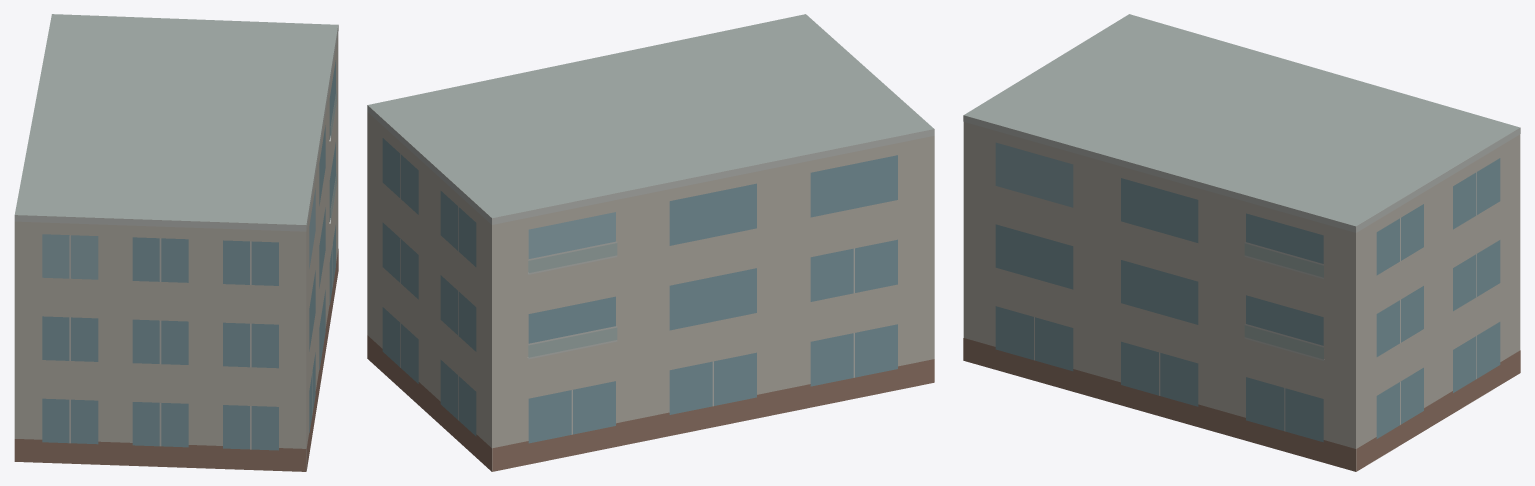
Rendered from survey-upis-32704758.glb.
3 renders of one model, left to right at view 1: azimuth 30°, elevation 25°; view 2: azimuth 150°, elevation 25°; view 3: azimuth 270°, elevation 25°, orthographic. The views are drawn at different scales.
Parts seen in each view (by area): view 1: survey-upis-32704758.tmp; view 2: survey-upis-32704758.tmp; view 3: survey-upis-32704758.tmp.
Part boxes in pixels (x1,y1,x2,y2): survey-upis-32704758.tmp: (14,14,338,471); survey-upis-32704758.tmp: (367,14,934,471); survey-upis-32704758.tmp: (963,14,1520,471).
Bounding box in the file's own units: 16.99 × 9.15 × 18.83.
